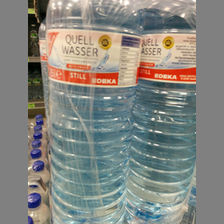water: (46, 1, 146, 224), (126, 1, 195, 224)
